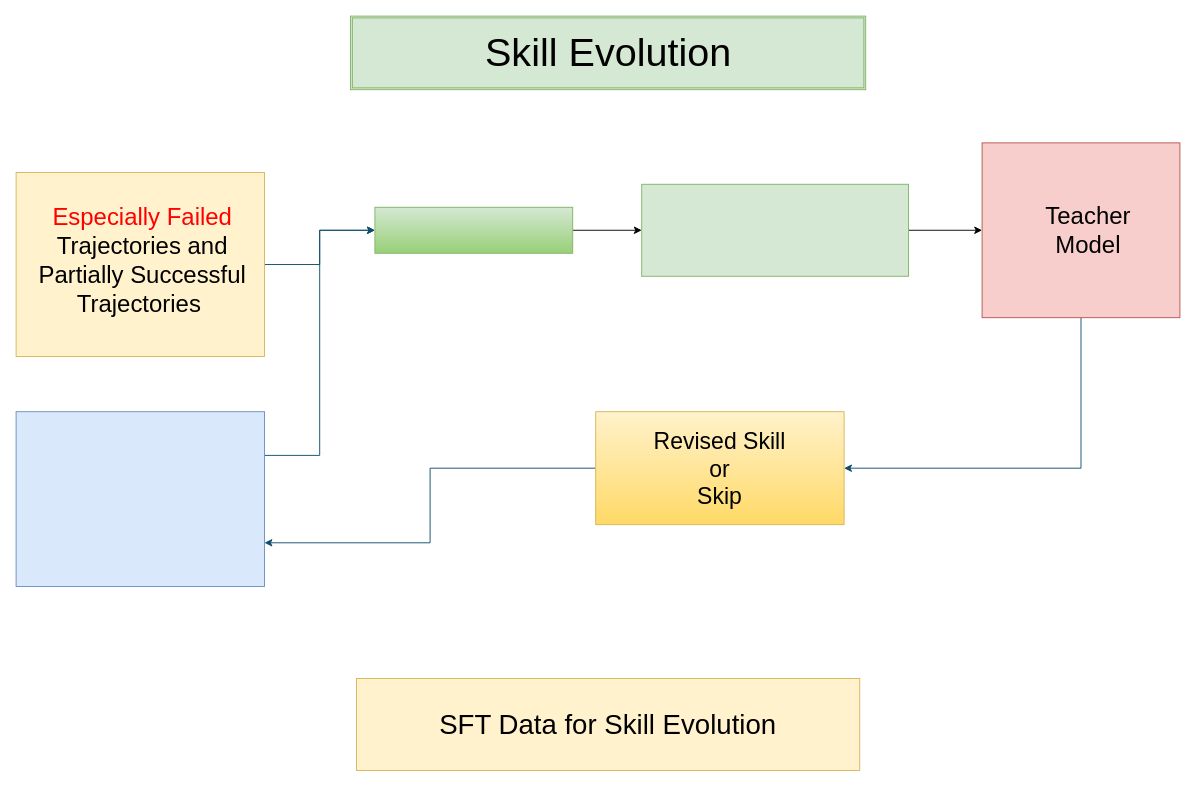
This 1196x787 diagram has some shape labels left out. Each missing label, with the centre of its shape:
"Retriever" goes at (473,229).
"Skill Bank" goes at (139,498).
"Traj & Skill Match" goes at (774,229).
